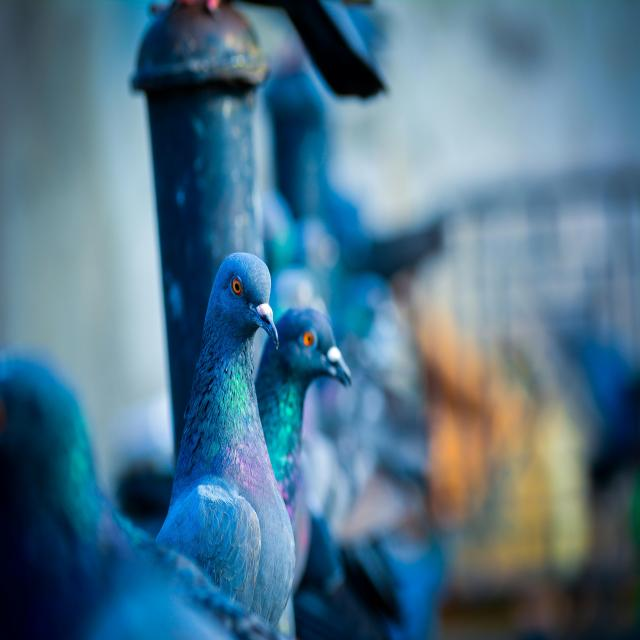Pigeon: (158, 250, 296, 621), (259, 306, 356, 506)
